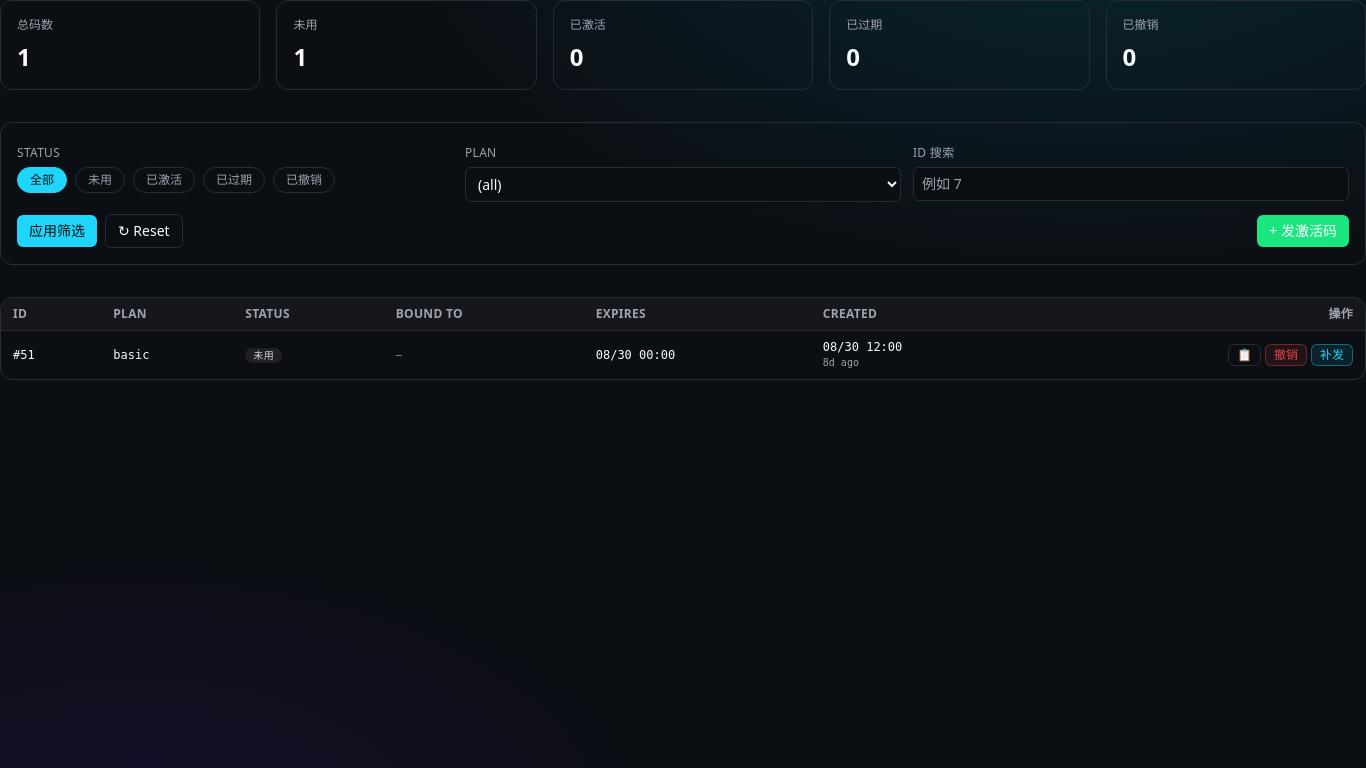
Test case: ActivationCodesPanel — Phase 23 IM delivery › resend with no open_id typed keeps the submit disabled
What coordinates should you click on to do the following:
click the button with test id "activation-resend-51"
I would click on:
 (1332, 355)
Its box is x1=1311 y1=344 x2=1353 y2=366.
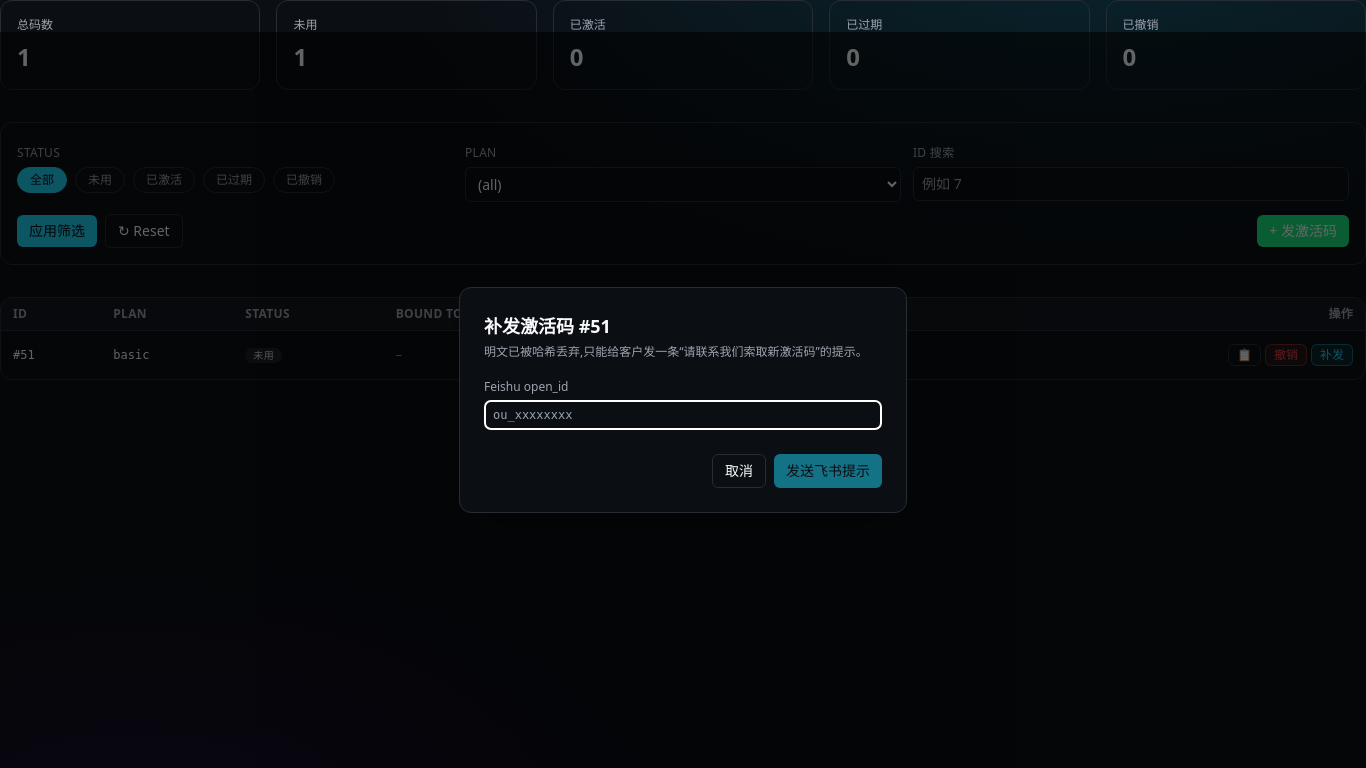
expect the dialog with test id "resend-modal" is shown: met
expect the button with test id "resend-submit" is disabled: met, box x1=774 y1=454 x2=882 y2=488
